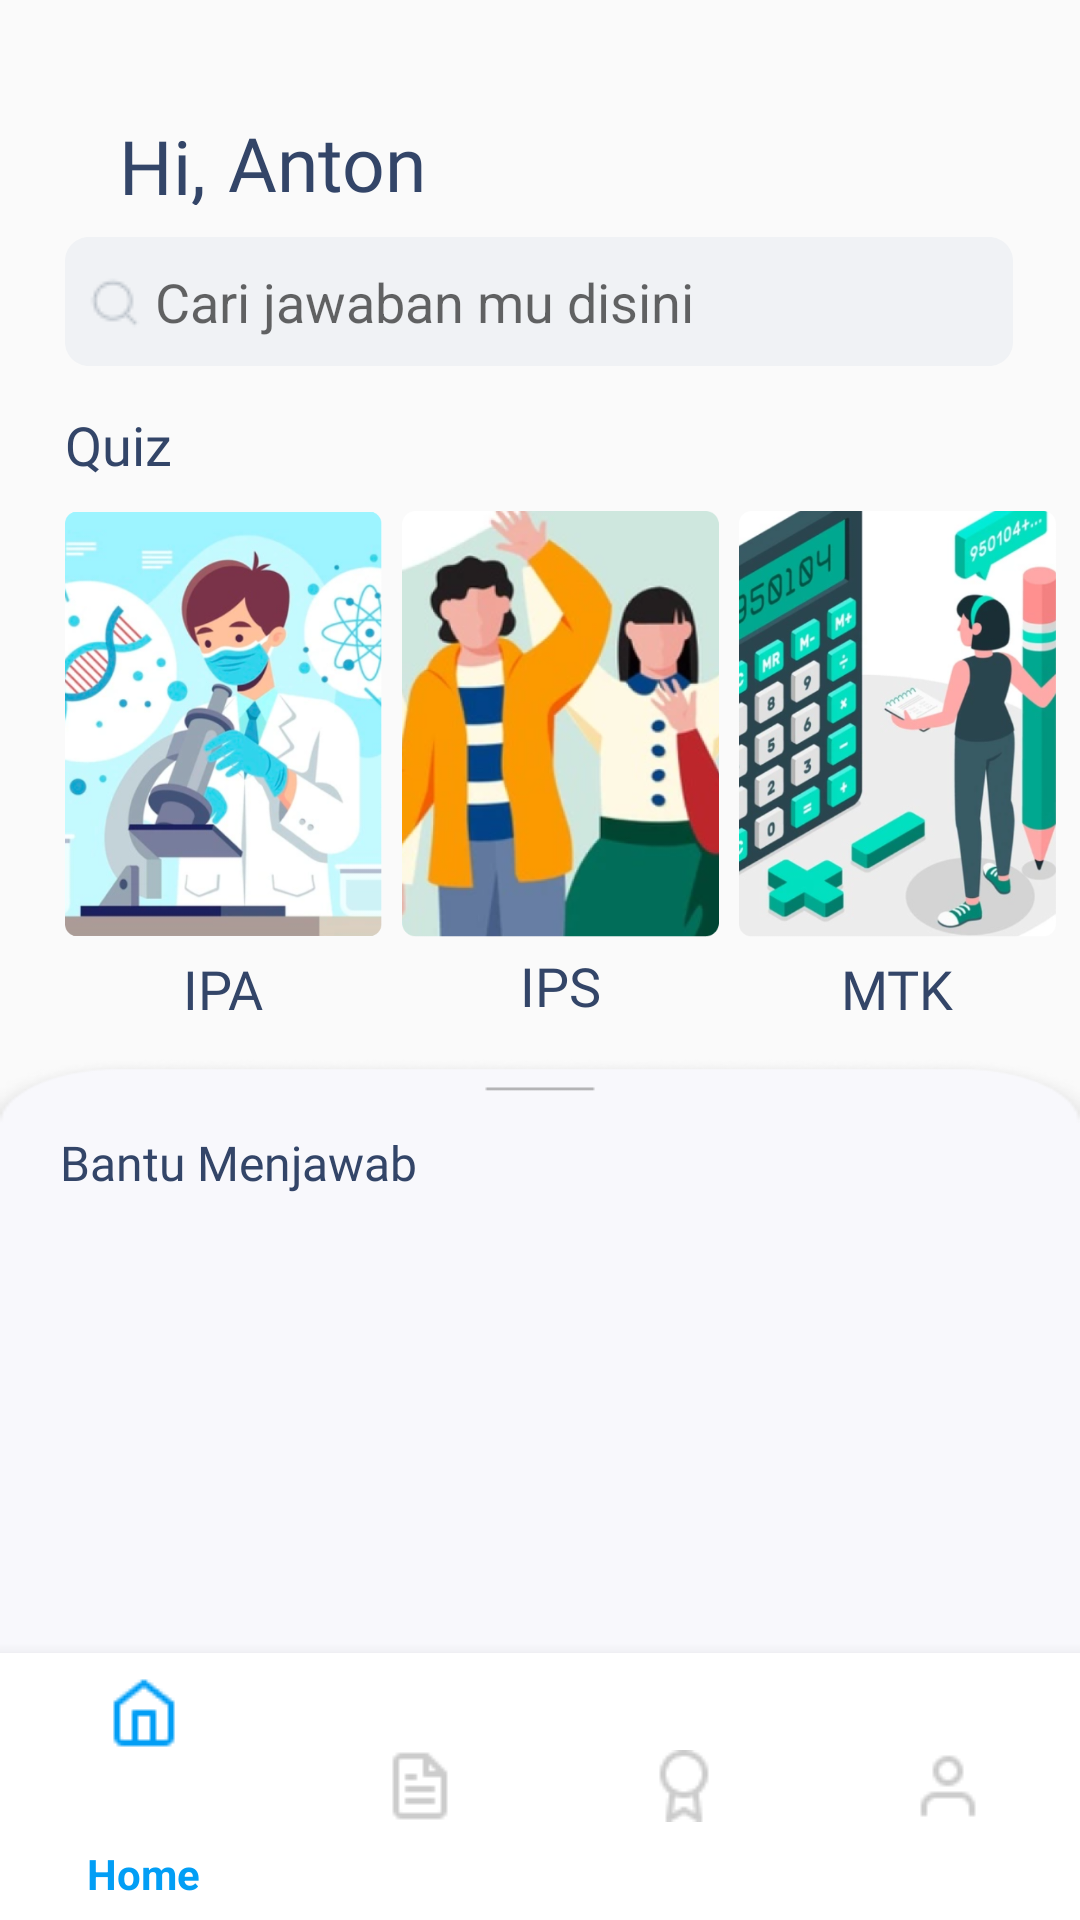

Icons on this 1080×1920 Android screen, each with its box as box(x1, y1, x2, y2):
search: box(94, 282, 136, 324)
